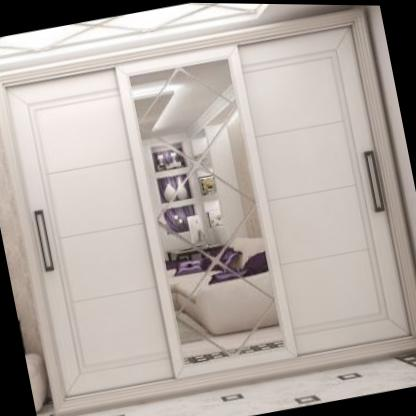Ceramic floor: (65, 355, 416, 416)
Closet: (0, 7, 416, 416)
